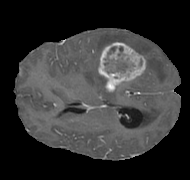Edema: (71, 33, 170, 94)
EnhancingTumors: (91, 35, 165, 87)
Necrosis: (98, 46, 157, 76)
